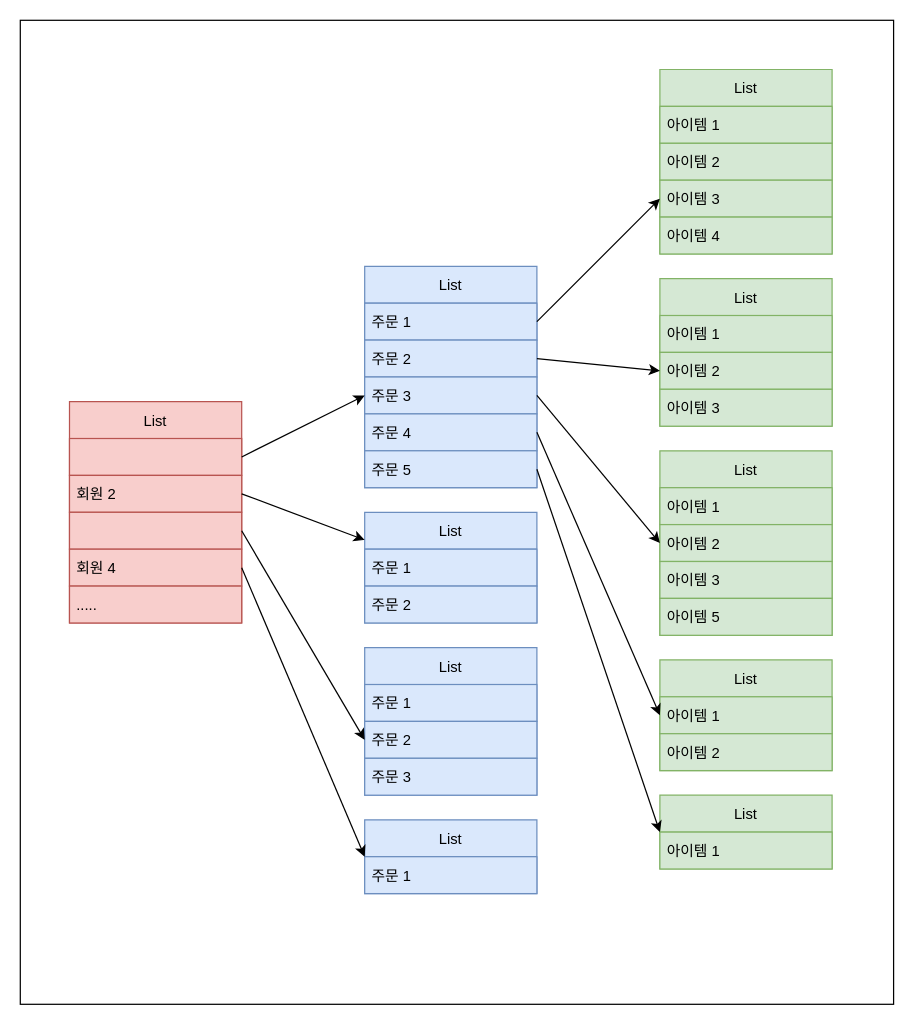
This 914x1025 diagram has some shape labels left out. The shapes that lost their labels are listed below. From the top down, each one's centre as x and y in pixels, then its label:
the point at 155,456: 회원 1
the point at 155,530: 회원 3
